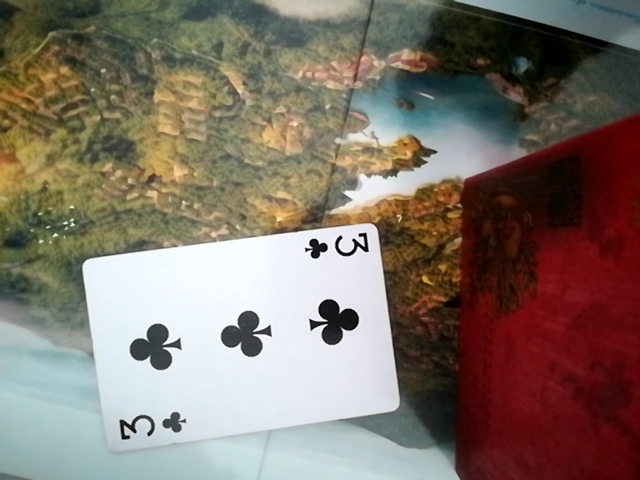mh 3: (84, 225, 406, 450)
